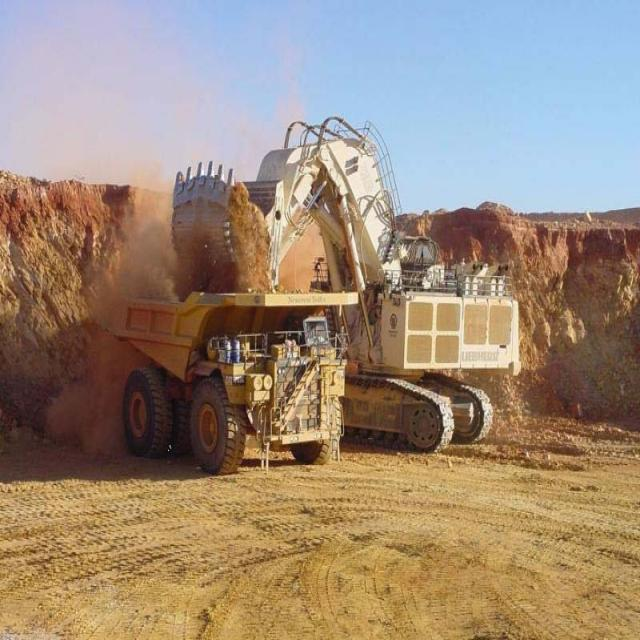dump_truck: (87, 248, 356, 480)
excavator: (156, 80, 534, 471)
